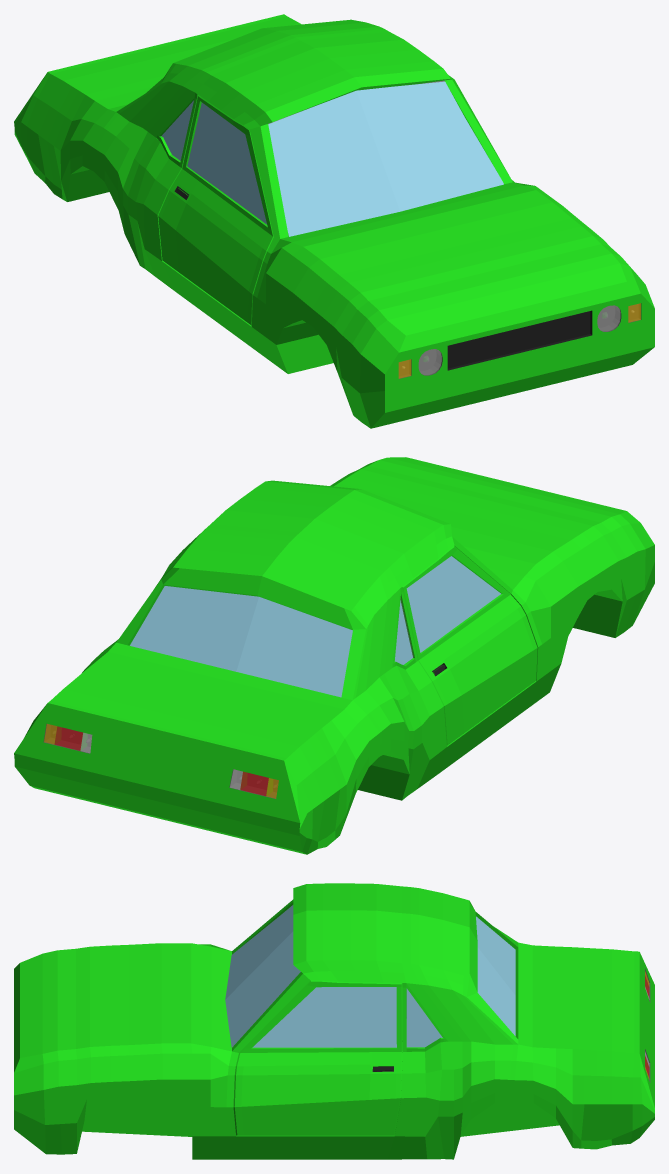
File: Car.fbx
3 renders of one model, top to bottom at view 1: azimuth 30°, elevation 25°; view 2: azimuth 150°, elevation 25°; view 3: azimuth 270°, elevation 25°, orthographic. The views are drawn at different scales.
Parts seen in each view (by area): view 1: Cube; view 2: Cube; view 3: Cube.
Boxes of the visible parts, x1,y1,x2,y2 form: Cube: (14, 14, 654, 428); Cube: (14, 457, 654, 854); Cube: (14, 883, 654, 1159).
Bounding box in the file's own units: 413 × 301 × 906.
